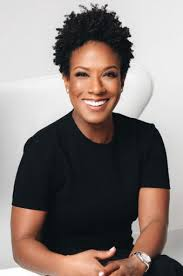black_female: (58, 35, 135, 124)
